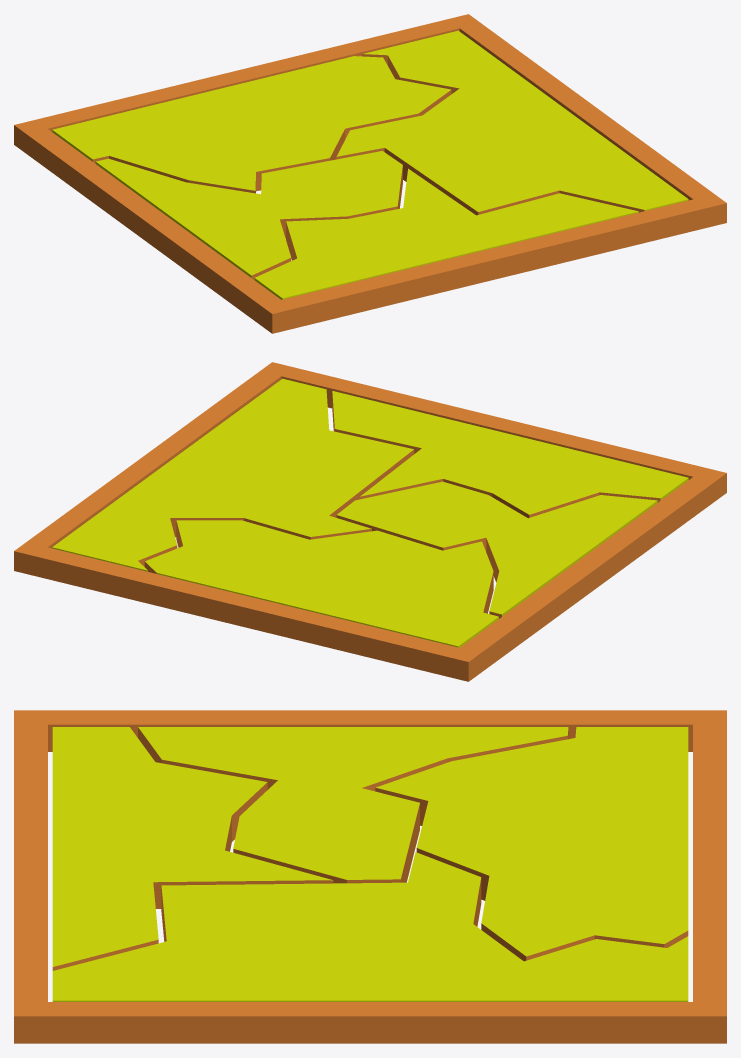
File: Mechanical_floor_T1_InActive.fbx
3 renders of one model, top to bottom at view 1: azimuth 30°, elevation 25°; view 2: azimuth 150°, elevation 25°; view 3: azimuth 270°, elevation 25°, orthographic. The views are drawn at different scales.
Visible parts, largest first — view 1: Mechanical_floor_T1_InActive; view 2: Mechanical_floor_T1_InActive; view 3: Mechanical_floor_T1_InActive.
Part boxes in pixels (x1,y1,x2,y2): Mechanical_floor_T1_InActive: (14,14,726,333); Mechanical_floor_T1_InActive: (14,362,726,681); Mechanical_floor_T1_InActive: (14,710,726,1043).
Size of the model in its own units: 0.9677 by 0.9524 by 0.0403.
